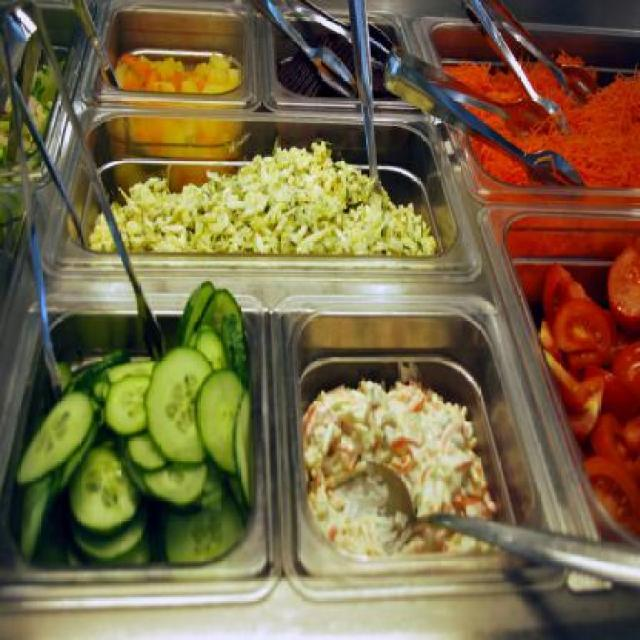Salad: (298, 366, 496, 564)
